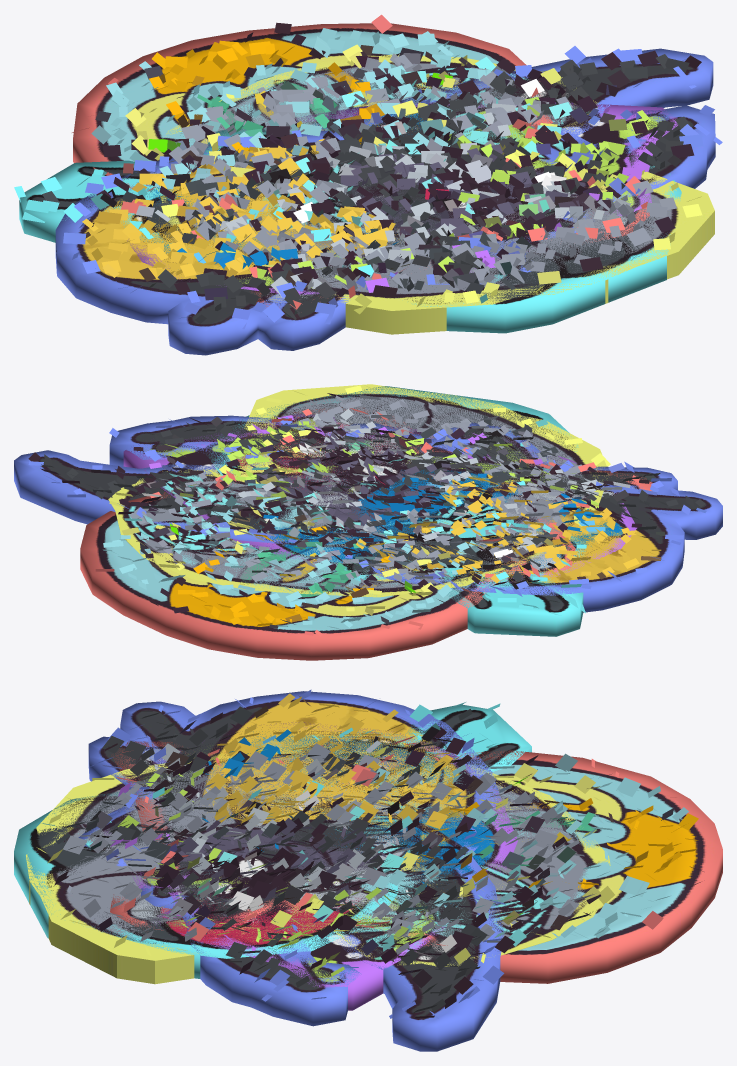
Rendered from rugs.fbx.
3 renders of one model, top to bottom at view 1: azimuth 30°, elevation 25°; view 2: azimuth 150°, elevation 25°; view 3: azimuth 270°, elevation 25°, orthographic. The views are drawn at different scales.
Visible parts, largest first — view 1: sunny_beetle_rug, sunny_cloporte_rug, sunny_spider_rug, sunny_girafe_weevel_rug, sunny_codebug_bug_codebug_rug; view 2: sunny_beetle_rug, sunny_spider_rug, sunny_cloporte_rug, sunny_girafe_weevel_rug, sunny_codebug_bug_codebug_rug; view 3: sunny_beetle_rug, sunny_spider_rug, sunny_cloporte_rug, sunny_girafe_weevel_rug, sunny_codebug_bug_codebug_rug.
Boxes of the visible parts, x1,y1,x2,y2 form: sunny_beetle_rug: (55,46,722,355); sunny_cloporte_rug: (156,51,714,334); sunny_spider_rug: (72,14,649,309); sunny_girafe_weevel_rug: (14,125,681,333); sunny_codebug_bug_codebug_rug: (127,96,677,294); sunny_beetle_rug: (14,415,722,612); sunny_spider_rug: (80,407,652,660); sunny_cloporte_rug: (108,384,610,597); sunny_girafe_weevel_rug: (206,386,586,636); sunny_codebug_bug_codebug_rug: (123,413,636,584); sunny_beetle_rug: (78,689,505,1051); sunny_spider_rug: (110,732,722,983); sunny_cloporte_rug: (26,743,612,984); sunny_girafe_weevel_rug: (14,702,531,978); sunny_codebug_bug_codebug_rug: (103,722,517,1010).
Size of the model in its own units: 230 by 10.48 by 204.
